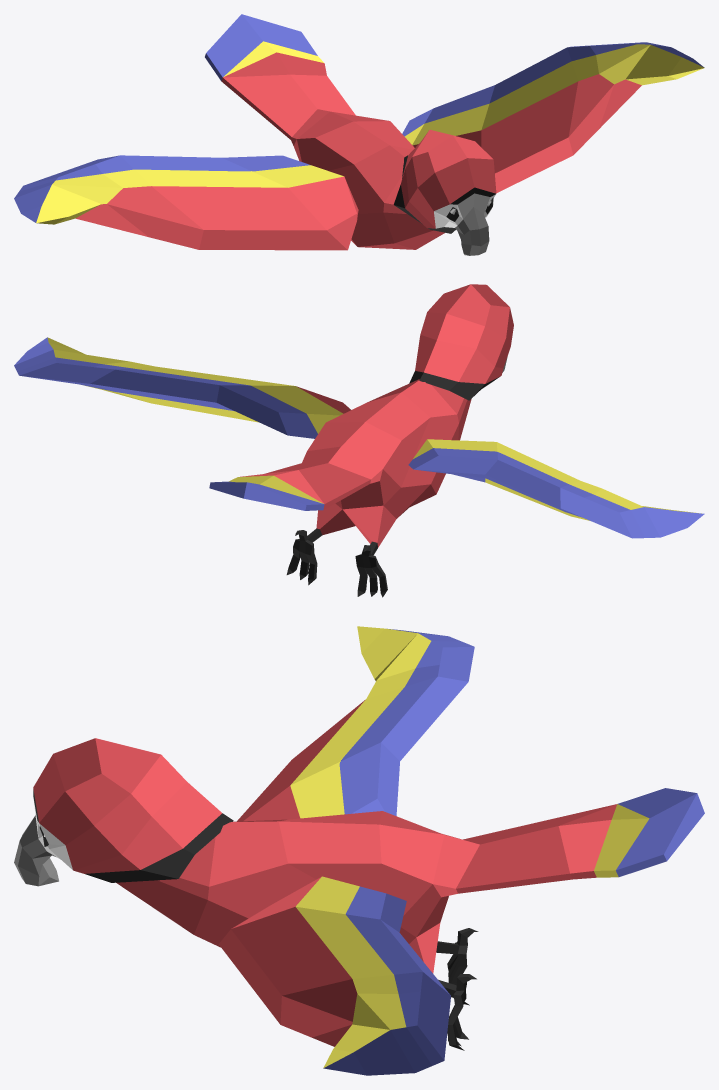
The model's file is Flying_parrot.fbx.
3 renders of one model, top to bottom at view 1: azimuth 30°, elevation 25°; view 2: azimuth 150°, elevation 25°; view 3: azimuth 270°, elevation 25°, orthographic. The views are drawn at different scales.
Visible parts, largest first — view 1: Ala 2, cuerpo, ala 1, cabeza; view 2: cuerpo, ala 1, Ala 2, cabeza; view 3: cuerpo, ala 1, cabeza, Ala 2.
Boxes of the visible parts, x1,y1,x2,y2 form: Ala 2: (14, 155, 358, 250); cuerpo: (205, 14, 444, 249); ala 1: (402, 42, 704, 193); cabeza: (393, 129, 496, 255); cuerpo: (209, 379, 471, 597); ala 1: (14, 337, 350, 438); Ala 2: (408, 439, 704, 538); cabeza: (409, 284, 513, 400); cuerpo: (116, 788, 704, 1050); ala 1: (219, 876, 450, 1075); cabeza: (14, 738, 233, 886); Ala 2: (237, 626, 474, 821).
Bounding box in the file's own units: 165 × 48.56 × 107.
3 materials, 3 textured.
